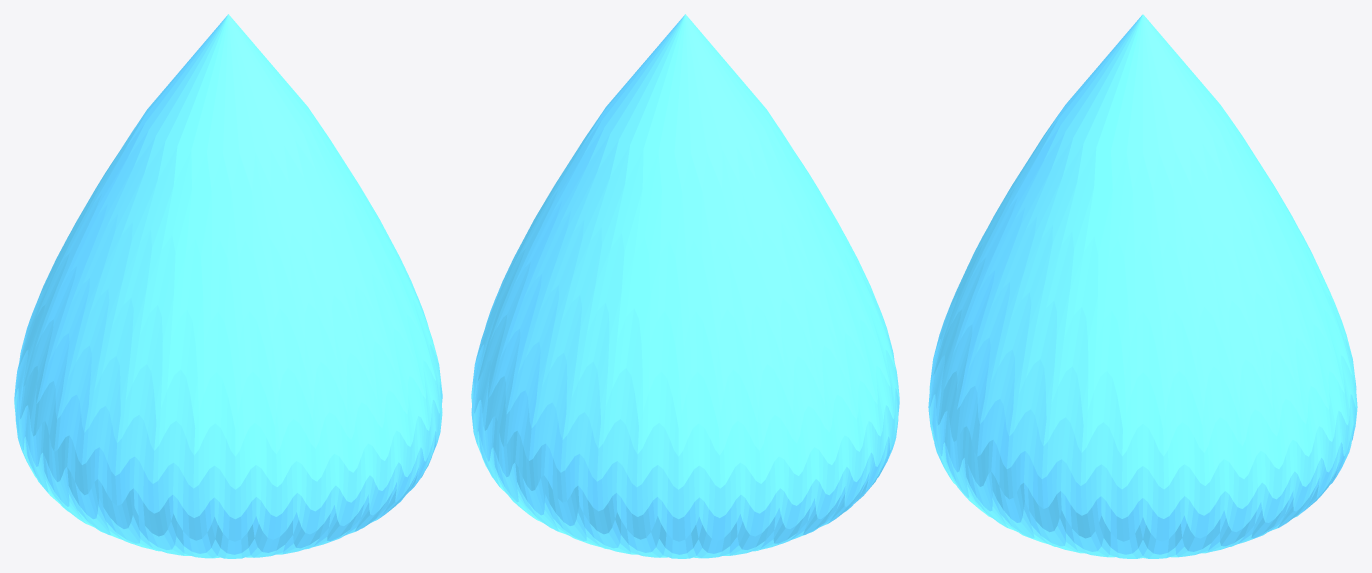
The model's file is Gota01.fbx.
3 views of the same model, side by side, from view 1: azimuth 30°, elevation 25°; view 2: azimuth 150°, elevation 25°; view 3: azimuth 270°, elevation 25° (orthographic).
Parts seen in each view (by area): view 1: Gota; view 2: Gota; view 3: Gota.
Boxes of the visible parts, bbox=[...] form: Gota: bbox=[14, 14, 442, 558]; Gota: bbox=[471, 14, 899, 558]; Gota: bbox=[928, 14, 1357, 558].
Size of the model in its own units: 128 by 172 by 128.
